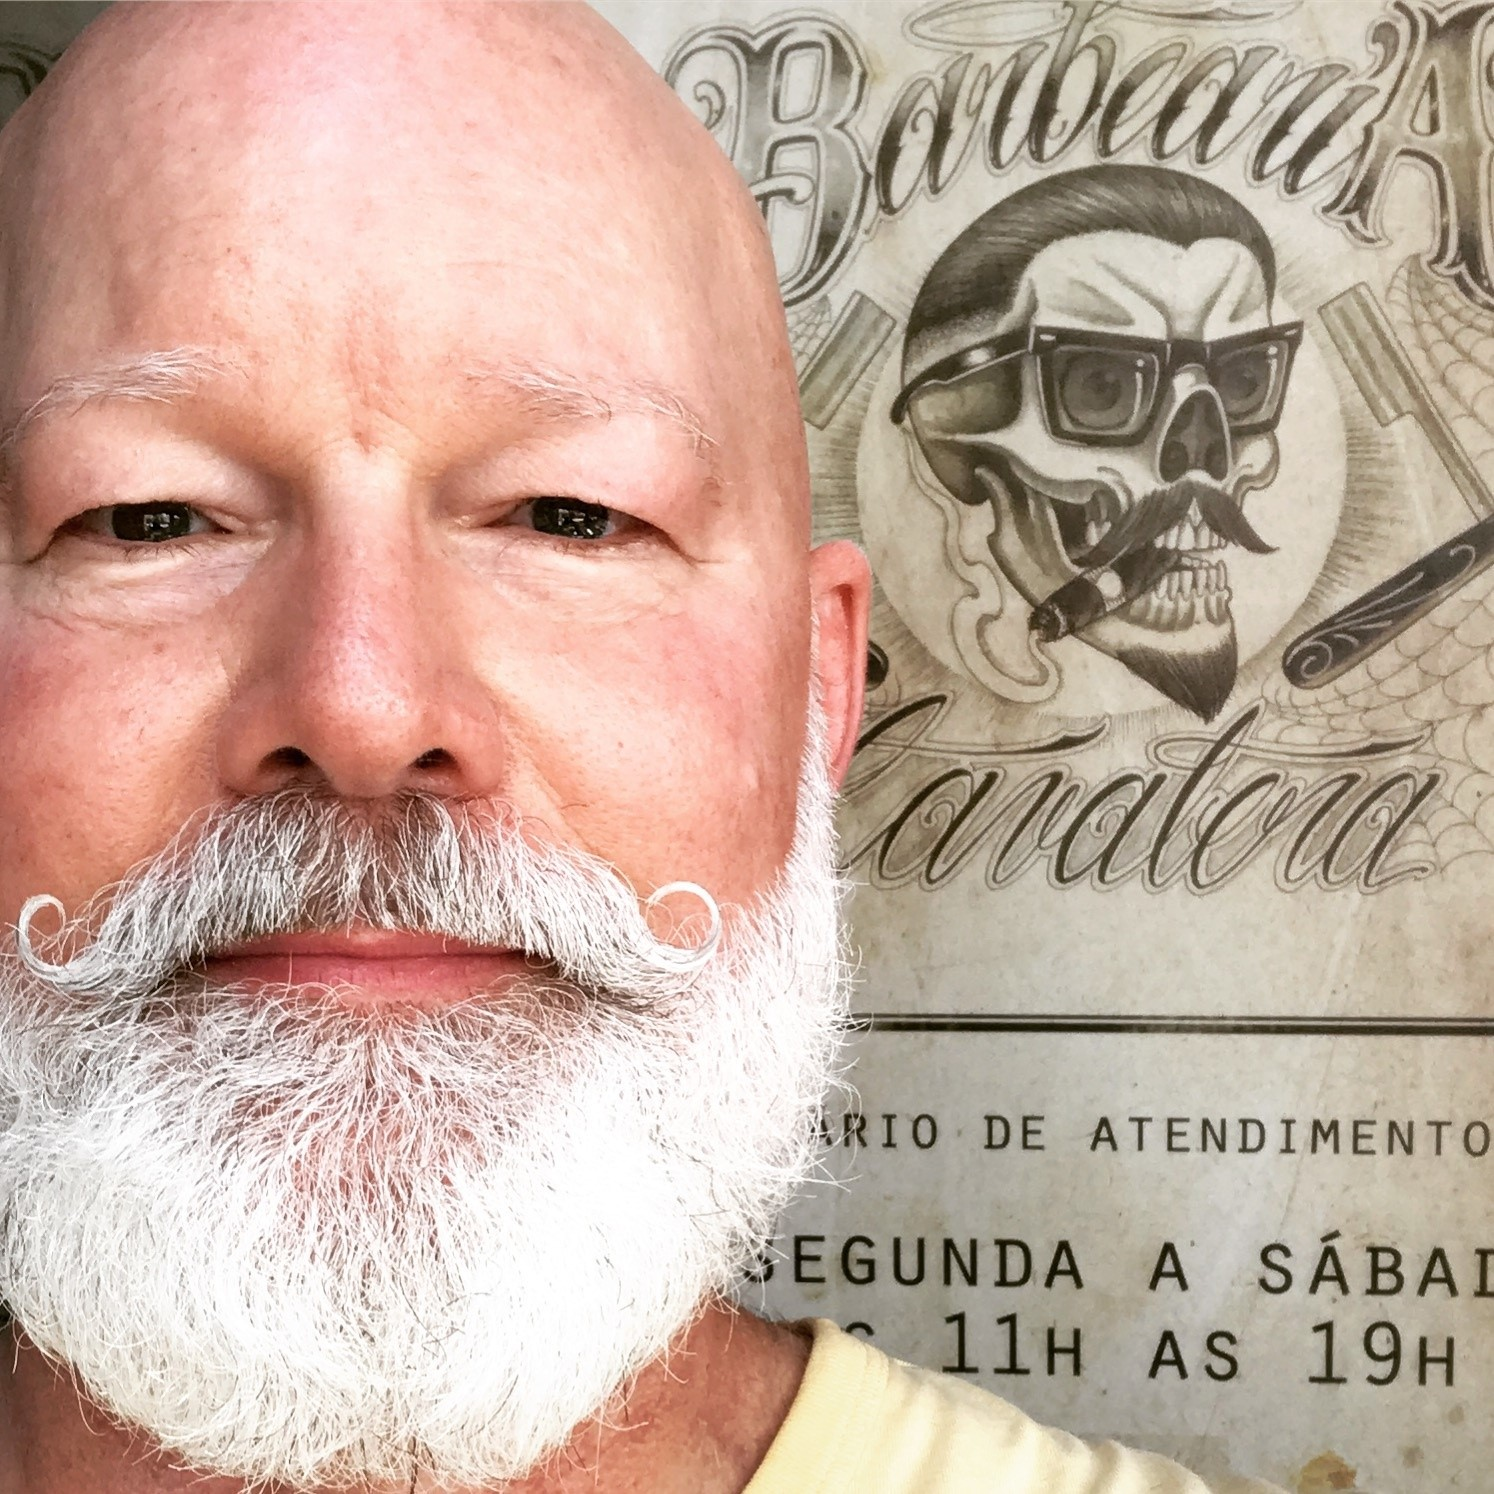face_no_mask: (12, 19, 875, 1475)
